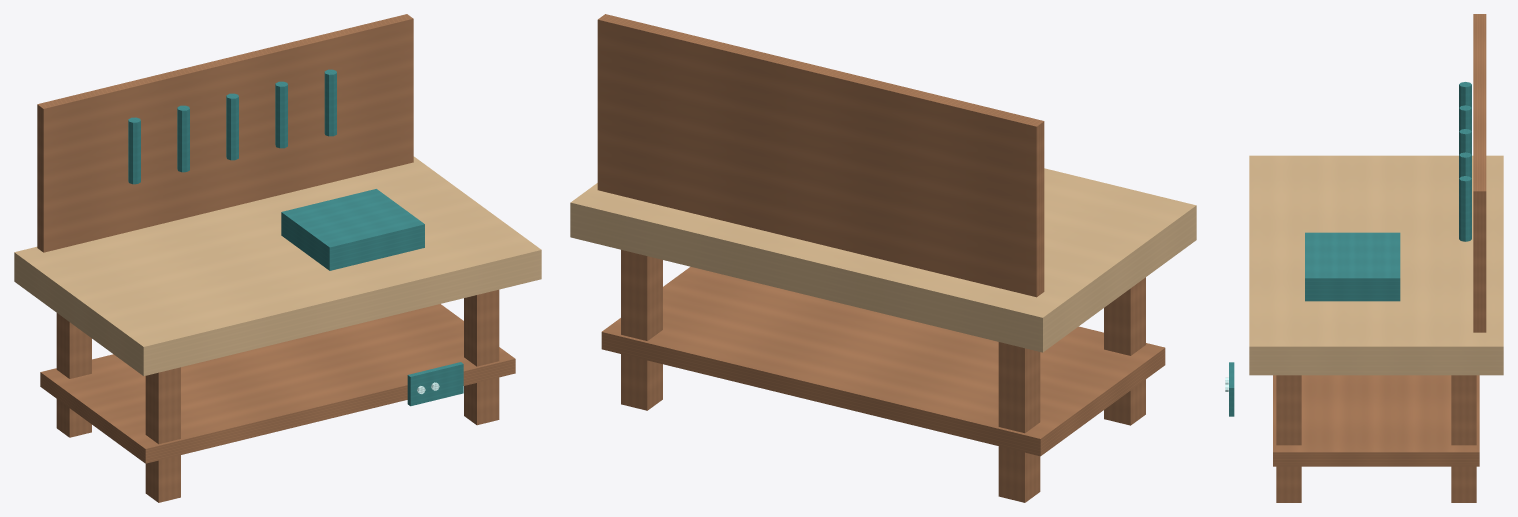
File: atlas100-s092-a06.glb
The picture shows the model from 3 angles, left to right: view 1: azimuth 30°, elevation 25°; view 2: azimuth 150°, elevation 25°; view 3: azimuth 270°, elevation 25°; orthographic projection. The views are drawn at different scales.
Visible parts, largest first — view 1: atlas100-s092-a06:part-004, atlas100-s092-a06:part-006, atlas100-s092-a06:part-005, atlas100-s092-a06:part-012, atlas100-s092-a06:part-003, atlas100-s092-a06:part-001, atlas100-s092-a06:part-000, atlas100-s092-a06:part-013, atlas100-s092-a06:part-008, atlas100-s092-a06:part-007, atlas100-s092-a06:part-009, atlas100-s092-a06:part-010 (+1 smaller); view 2: atlas100-s092-a06:part-006, atlas100-s092-a06:part-005, atlas100-s092-a06:part-004, atlas100-s092-a06:part-000, atlas100-s092-a06:part-002, atlas100-s092-a06:part-001; view 3: atlas100-s092-a06:part-004, atlas100-s092-a06:part-005, atlas100-s092-a06:part-012, atlas100-s092-a06:part-006, atlas100-s092-a06:part-002, atlas100-s092-a06:part-003, atlas100-s092-a06:part-011, atlas100-s092-a06:part-013, atlas100-s092-a06:part-008, atlas100-s092-a06:part-010.
Boxes of the visible parts, x1,y1,x2,y2 form: atlas100-s092-a06:part-004: [14, 156, 541, 376]; atlas100-s092-a06:part-006: [37, 14, 413, 252]; atlas100-s092-a06:part-005: [40, 304, 515, 463]; atlas100-s092-a06:part-012: [281, 189, 424, 270]; atlas100-s092-a06:part-003: [464, 289, 499, 425]; atlas100-s092-a06:part-001: [145, 367, 180, 502]; atlas100-s092-a06:part-000: [56, 313, 91, 437]; atlas100-s092-a06:part-013: [407, 362, 463, 406]; atlas100-s092-a06:part-008: [177, 105, 189, 172]; atlas100-s092-a06:part-007: [128, 117, 140, 184]; atlas100-s092-a06:part-009: [226, 93, 238, 160]; atlas100-s092-a06:part-010: [275, 81, 287, 148]; atlas100-s092-a06:part-006: [597, 14, 1044, 297]; atlas100-s092-a06:part-005: [601, 266, 1165, 456]; atlas100-s092-a06:part-004: [570, 168, 1196, 352]; atlas100-s092-a06:part-000: [998, 342, 1040, 502]; atlas100-s092-a06:part-002: [621, 250, 662, 410]; atlas100-s092-a06:part-001: [1104, 277, 1145, 425]; atlas100-s092-a06:part-004: [1249, 155, 1503, 375]; atlas100-s092-a06:part-005: [1273, 375, 1479, 466]; atlas100-s092-a06:part-012: [1305, 232, 1400, 301]; atlas100-s092-a06:part-006: [1473, 14, 1486, 332]; atlas100-s092-a06:part-002: [1451, 375, 1476, 502]; atlas100-s092-a06:part-003: [1276, 375, 1301, 502]; atlas100-s092-a06:part-011: [1459, 176, 1471, 241]; atlas100-s092-a06:part-013: [1229, 362, 1234, 416]; atlas100-s092-a06:part-008: [1459, 105, 1471, 131]; atlas100-s092-a06:part-010: [1459, 152, 1471, 178].
Size of the model in its own units: 2.84 by 2.21 by 1.75.
4 materials, 4 textured.
